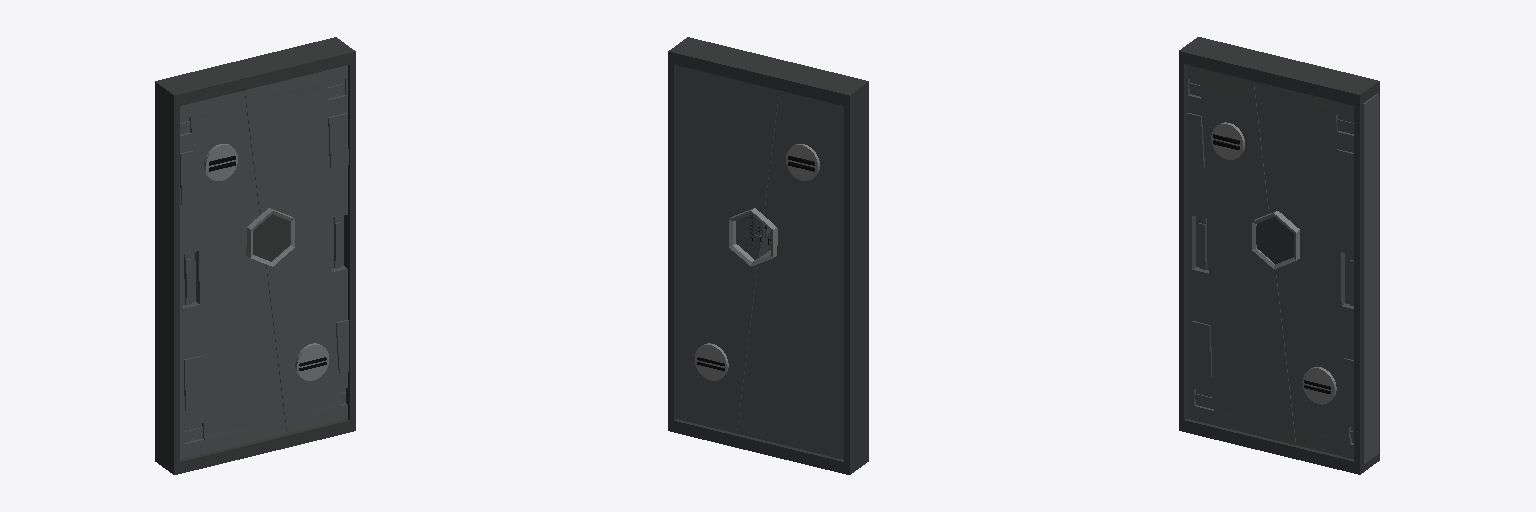
3 renders of one model, left to right at view 1: azimuth 30°, elevation 25°; view 2: azimuth 150°, elevation 25°; view 3: azimuth 330°, elevation 25°, orthographic.
Parts seen in each view (by area): view 1: partl, partr, tour; view 2: partr, partl, tour; view 3: partr, partl, tour.
Part boxes in pixels (x1,y1,x2,y2): partl: (180,91,286,459); partr: (244,65,348,433); tour: (155,37,355,474); partr: (676,65,779,433); partl: (737,91,843,459); tour: (668,37,868,474); partr: (1252,81,1378,463); partl: (1187,65,1295,444); tour: (1179,37,1379,474).
Size of the model in its own units: 1.01 by 2 by 0.2176.
Materials: 1 (1 with a texture image).